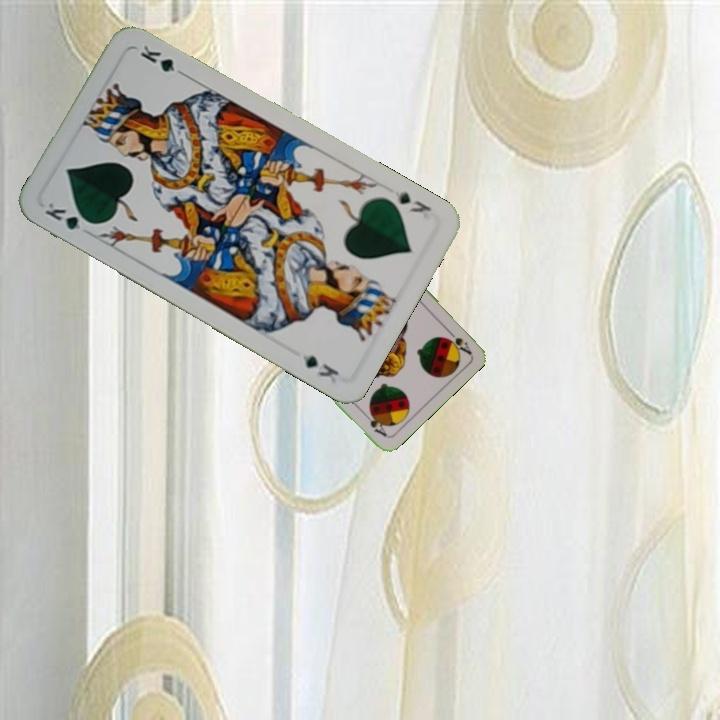GK: (40, 196, 97, 233), (390, 186, 435, 216)
SA: (441, 323, 474, 357)
